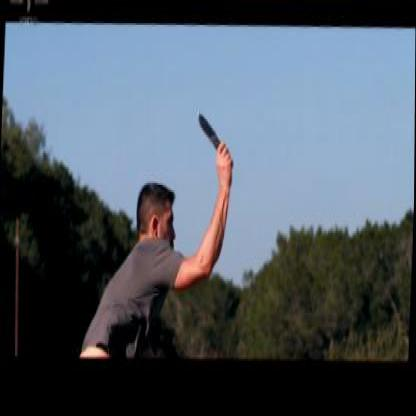knife: (190, 100, 237, 182)
